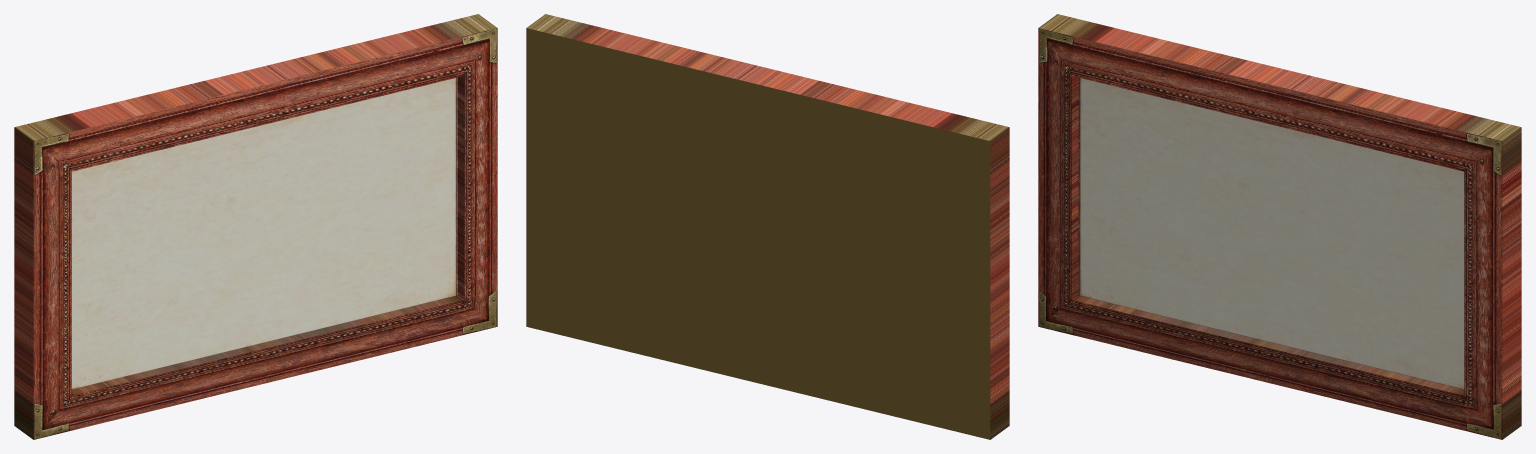
Rendered from panel_tool.glb.
3 renders of one model, left to right at view 1: azimuth 30°, elevation 25°; view 2: azimuth 150°, elevation 25°; view 3: azimuth 330°, elevation 25°, orthographic.
Parts seen in each view (by area): view 1: panel_tool; view 2: panel_tool; view 3: panel_tool.
Boxes of the visible parts, box(x1,y1,x2,y2) form: panel_tool: box(14, 14, 497, 439); panel_tool: box(526, 14, 1009, 439); panel_tool: box(1038, 14, 1521, 439).
Size of the model in its own units: 0.52 by 0.32 by 0.042.
1 material, 1 textured.
